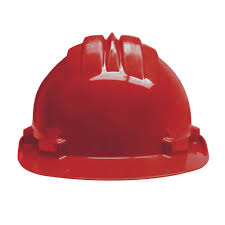Casco de seguridad: (14, 31, 210, 179)
